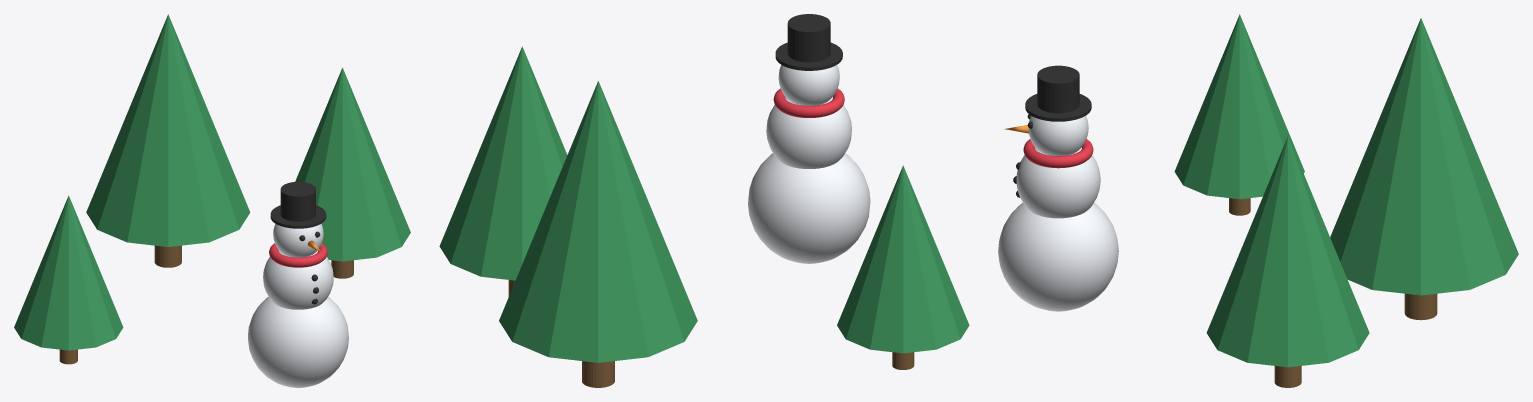
Rendered from snowman.glb.
3 renders of one model, left to right at view 1: azimuth 30°, elevation 25°; view 2: azimuth 150°, elevation 25°; view 3: azimuth 270°, elevation 25°, orthographic. The views are drawn at different scales.
Visible parts, largest first — view 1: Tree_3_Leaves, Tree_2_Leaves, Tree_1_Leaves, Snowman_Bottom, Snowman_Middle, Hat_Top, Snowman_Head, Scarf, Hat_Brim, Tree_3_Trunk, Tree_2_Trunk; view 2: Tree_3_Leaves, Tree_2_Leaves, Tree_1_Leaves, Snowman_Bottom, Snowman_Middle, Snowman_Head, Hat_Top, Scarf, Hat_Brim, Tree_3_Trunk; view 3: Tree_3_Leaves, Tree_2_Leaves, Tree_1_Leaves, Snowman_Bottom, Snowman_Middle, Hat_Top, Snowman_Head, Scarf, Hat_Brim, Tree_3_Trunk, Tree_2_Trunk.
Boxes of the visible parts, left/top/right/bottom form: Tree_3_Leaves: left=86, top=14, right=250, bottom=246; Tree_2_Leaves: left=295, top=67, right=410, bottom=261; Tree_1_Leaves: left=14, top=195, right=123, bottom=350; Snowman_Bottom: left=248, top=296, right=348, bottom=387; Snowman_Middle: left=263, top=250, right=333, bottom=309; Hat_Top: left=280, top=181, right=315, bottom=221; Snowman_Head: left=273, top=223, right=323, bottom=257; Scarf: left=269, top=243, right=327, bottom=267; Hat_Brim: left=270, top=205, right=326, bottom=228; Tree_3_Trunk: left=154, top=245, right=181, bottom=267; Tree_2_Trunk: left=331, top=260, right=353, bottom=278; Tree_3_Leaves: left=499, top=81, right=697, bottom=362; Tree_2_Leaves: left=439, top=46, right=567, bottom=280; Tree_1_Leaves: left=837, top=165, right=969, bottom=353; Snowman_Bottom: left=748, top=153, right=870, bottom=263; Snowman_Middle: left=766, top=97, right=851, bottom=168; Snowman_Head: left=778, top=65, right=839, bottom=105; Hat_Top: left=787, top=14, right=830, bottom=62; Scarf: left=773, top=88, right=844, bottom=117; Hat_Brim: left=775, top=42, right=842, bottom=70; Tree_3_Trunk: left=582, top=361, right=614, bottom=387; Tree_3_Leaves: left=1330, top=18, right=1518, bottom=295; Tree_2_Leaves: left=1206, top=136, right=1369, bottom=367; Tree_1_Leaves: left=1174, top=14, right=1304, bottom=199; Snowman_Bottom: left=998, top=203, right=1118, bottom=311; Snowman_Middle: left=1016, top=147, right=1100, bottom=218; Hat_Top: left=1037, top=65, right=1079, bottom=113; Snowman_Head: left=1028, top=116, right=1088, bottom=155; Scarf: left=1023, top=139, right=1093, bottom=168; Hat_Brim: left=1025, top=94, right=1091, bottom=121; Tree_3_Trunk: left=1404, top=293, right=1437, bottom=320; Tree_2_Trunk: left=1274, top=366, right=1301, bottom=387.
Bounding box in the file's own units: 9.13 × 5.5 × 8.62.
